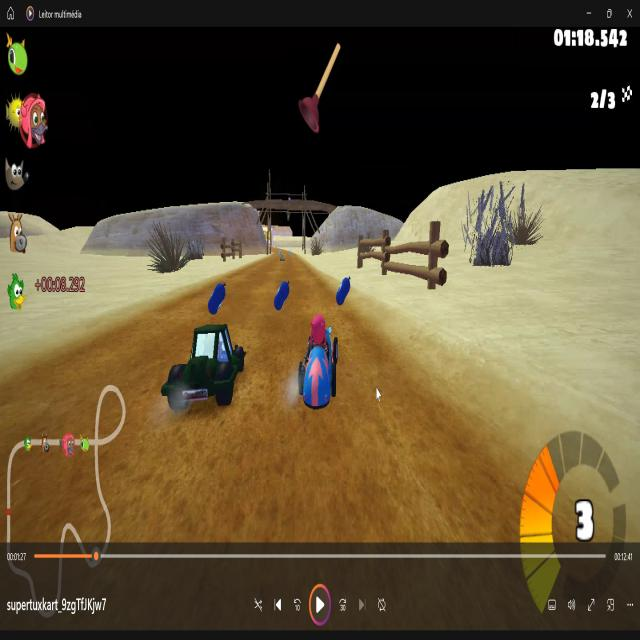player_kart: (296, 309, 341, 432)
track: (119, 430, 344, 545), (2, 380, 116, 548), (347, 343, 422, 542), (428, 406, 506, 536), (245, 320, 293, 428), (31, 326, 121, 372), (136, 316, 162, 423), (264, 243, 315, 274), (235, 272, 272, 308), (294, 270, 328, 302)
